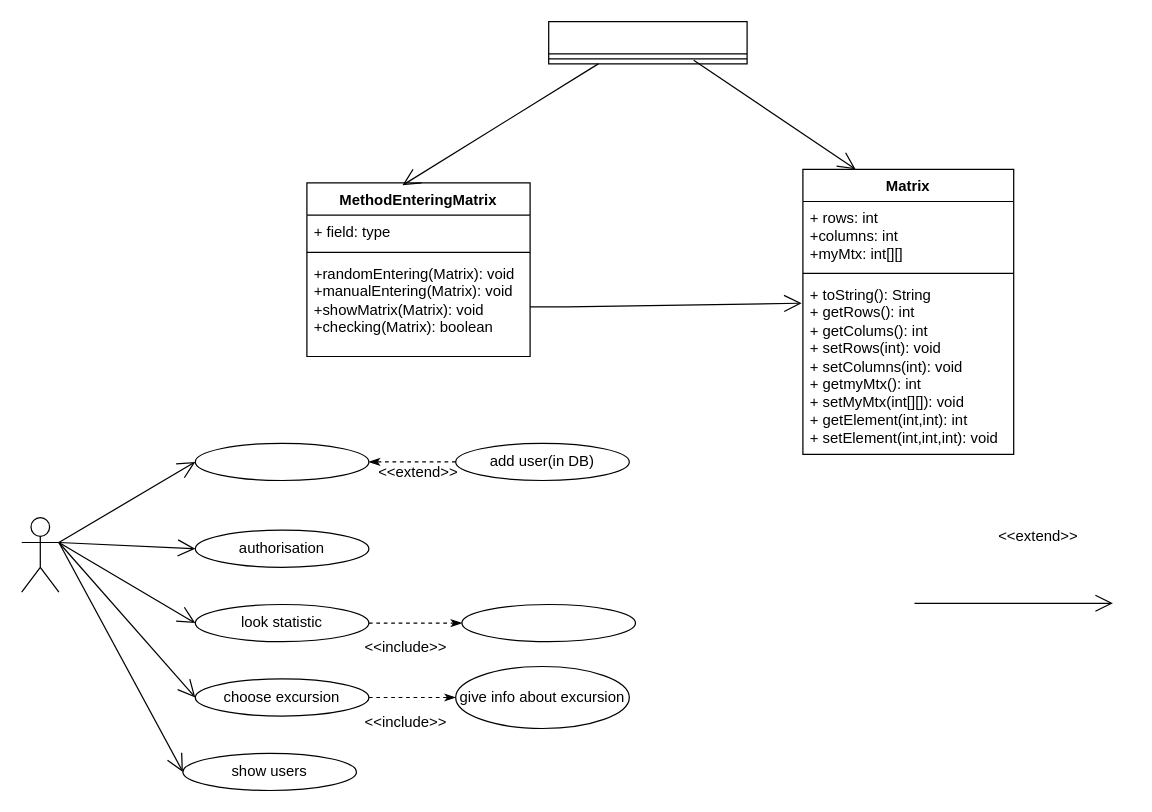
This 1152x812 diagram has some shape labels left out. Here are the shapes that lost their labels. From the top down, the centre of each, then its label:
(647,42): Main
(281,461): registration
(39,554): Actor
(548,622): show statistic
